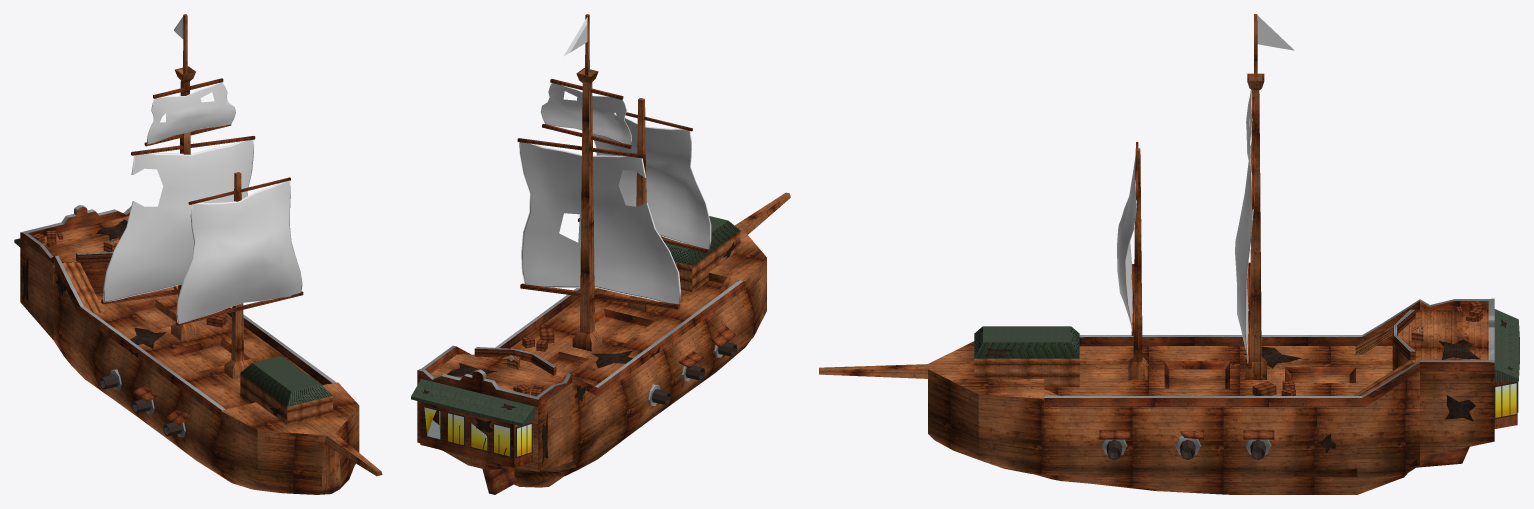
File: PlayerBoat60HP.fbx
3 renders of one model, left to right at view 1: azimuth 30°, elevation 25°; view 2: azimuth 150°, elevation 25°; view 3: azimuth 270°, elevation 25°, orthographic. The views are drawn at different scales.
Visible parts, largest first — view 1: pCube1, pCube21, pCube17, pCube27, pCube28, pCube2, pCube19, pCube20, pPlane12; view 2: pCube1, pCube17, pCube21, pCube28, pCube27, pCube16, pCube4, pCube6, pCube19, pCube39, pCube44, pPlane12 (+1 smaller); view 3: pCube1, pCube27, pCube17, pCube21.
Boxes of the visible parts, box(x1,y1,x2,y2) form: pCube1: box(14, 14, 382, 494); pCube21: box(176, 180, 302, 323); pCube17: box(103, 139, 253, 302); pCube27: box(240, 356, 332, 424); pCube28: box(147, 82, 235, 144); pCube2: box(62, 262, 103, 313); pCube19: box(131, 136, 255, 155); pCube20: box(176, 291, 303, 325); pPlane12: box(130, 327, 166, 348); pCube1: box(411, 14, 790, 487); pCube17: box(519, 142, 680, 304); pCube21: box(592, 114, 711, 249); pCube28: box(540, 83, 631, 144); pCube27: box(664, 216, 740, 292); pCube16: box(520, 283, 680, 309); pCube4: box(474, 347, 556, 375); pCube6: box(482, 468, 517, 494); pCube19: box(517, 138, 645, 158); pCube39: box(448, 413, 463, 444); pCube44: box(494, 424, 509, 456); pPlane12: box(591, 350, 632, 368); pCube1: box(819, 14, 1519, 494); pCube27: box(974, 326, 1079, 387); pCube17: box(1235, 142, 1253, 363); pCube21: box(1117, 156, 1136, 331).
Size of the model in its own units: 5.72 by 13.87 by 18.43.
